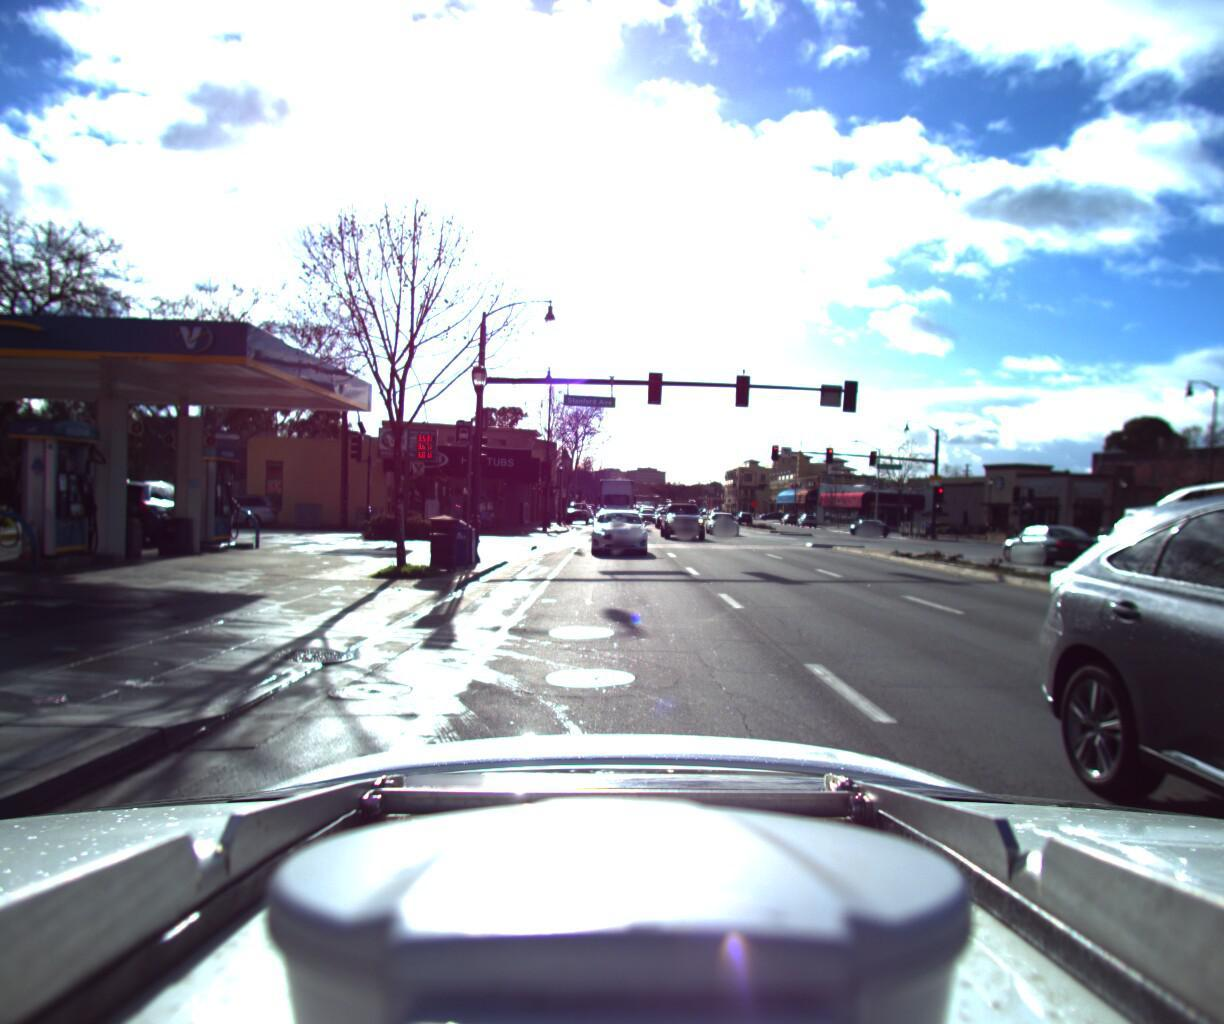car: (65, 472, 221, 548), (1074, 508, 1224, 570), (990, 515, 1115, 565), (171, 486, 280, 525), (582, 502, 650, 556), (657, 492, 709, 540), (703, 498, 747, 530), (564, 492, 592, 517), (636, 502, 656, 518)
truck: (591, 476, 634, 529)
